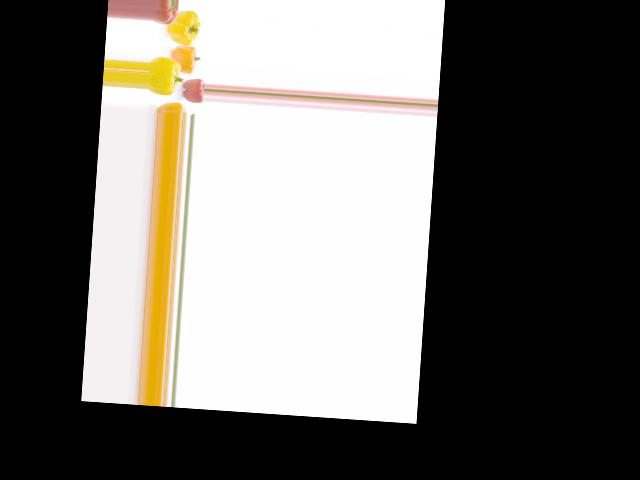bell_pepper: (156, 99, 188, 116)
